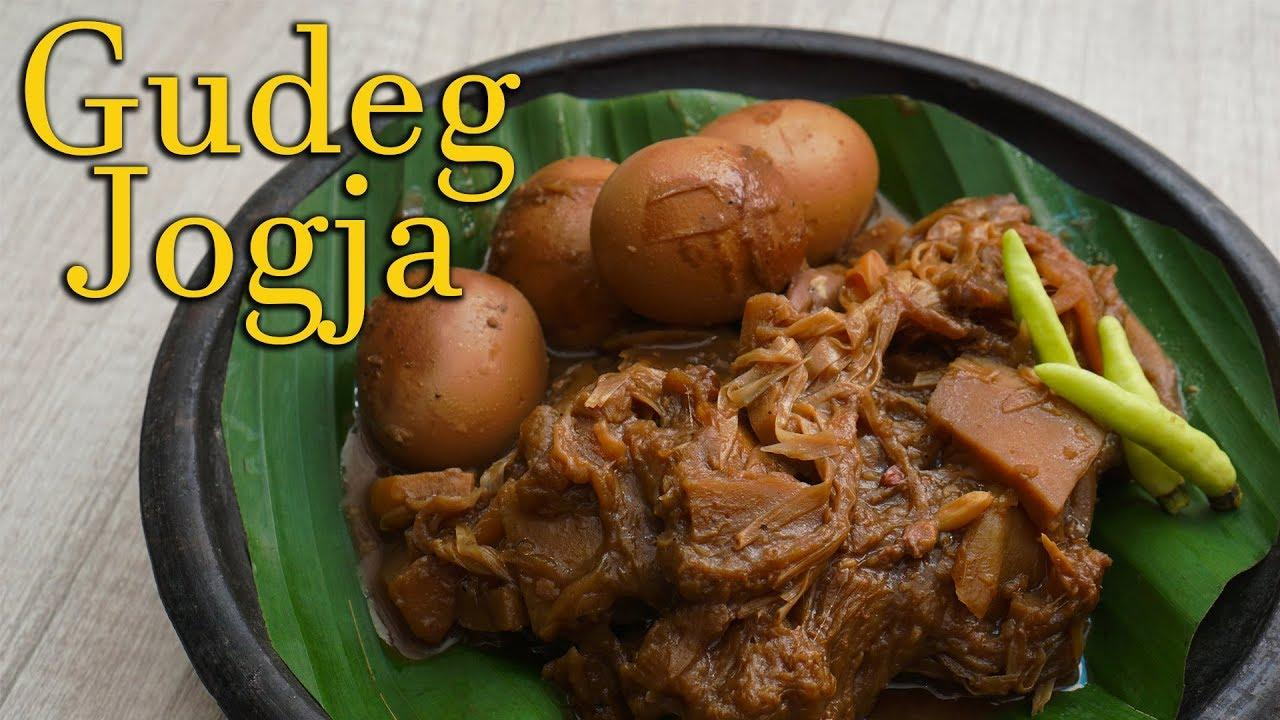gudeg: (355, 127, 1185, 720)
